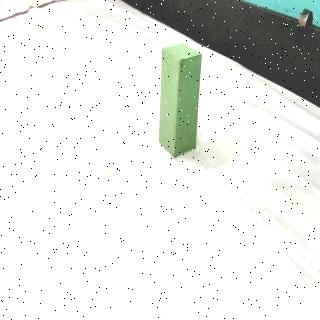greenbox: (158, 42, 202, 158)
